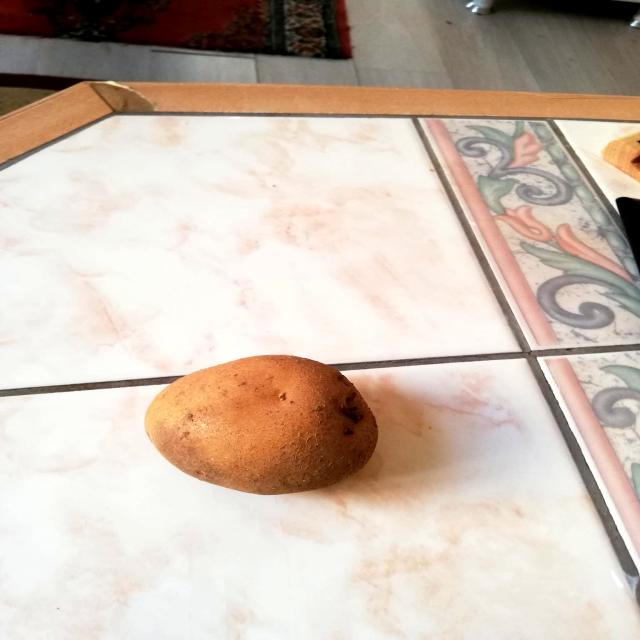potato: (140, 345, 384, 500)
